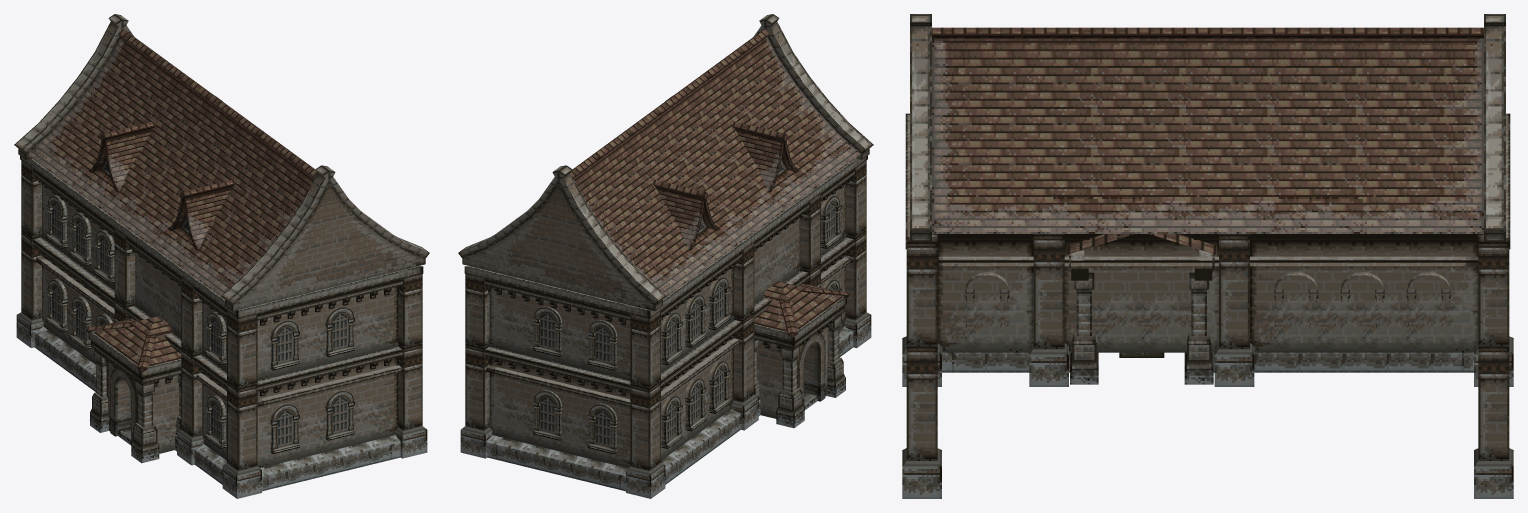
The model's file is EnvBdgMD_Snow_Mansion_A_Outdoor_A.FBX.
The picture shows the model from 3 angles, left to right: view 1: azimuth 30°, elevation 25°; view 2: azimuth 150°, elevation 25°; view 3: azimuth 270°, elevation 25°; orthographic projection. The views are drawn at different scales.
Parts seen in each view (by area): view 1: EnvBdgMD_Snow_Mansion_A_Outdoor_A; view 2: EnvBdgMD_Snow_Mansion_A_Outdoor_A; view 3: EnvBdgMD_Snow_Mansion_A_Outdoor_A.
Part boxes in pixels (x1,y1,x2,y2): EnvBdgMD_Snow_Mansion_A_Outdoor_A: [14, 14, 429, 498]; EnvBdgMD_Snow_Mansion_A_Outdoor_A: [458, 14, 873, 498]; EnvBdgMD_Snow_Mansion_A_Outdoor_A: [902, 14, 1513, 498].
Size of the model in its own units: 852 by 1050 by 1385.
1 material, 1 textured.
